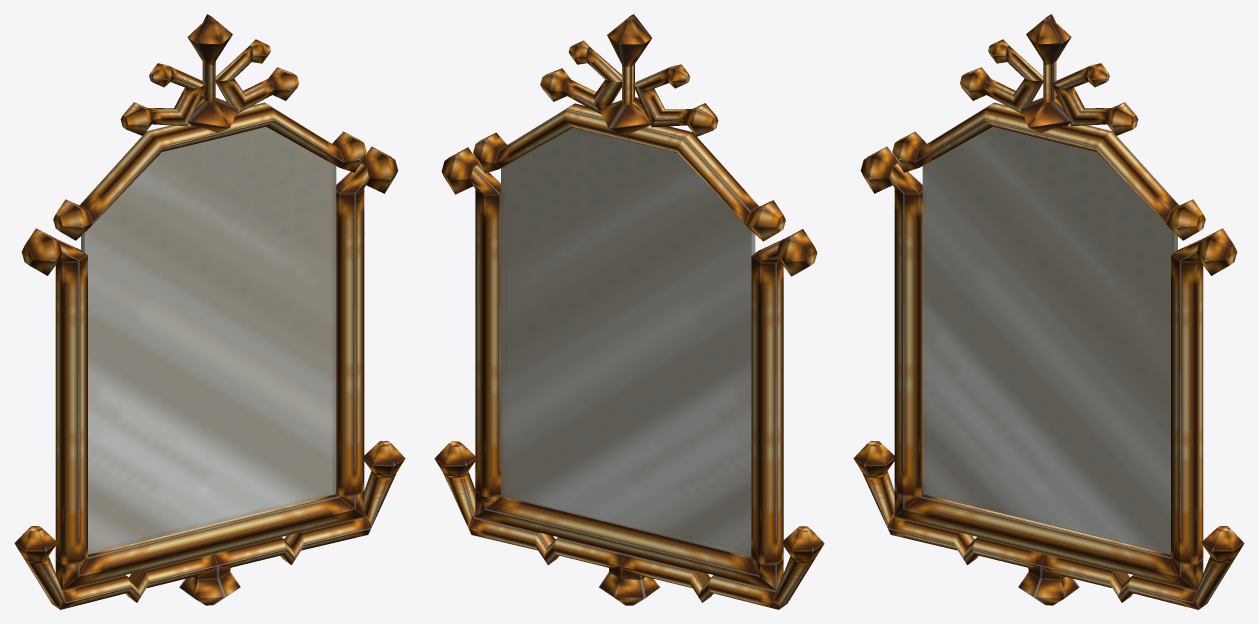
The model's file is Inside_Poly_Mirror_01.obj.
The picture shows the model from 3 angles, left to right: view 1: azimuth 30°, elevation 25°; view 2: azimuth 150°, elevation 25°; view 3: azimuth 330°, elevation 25°; orthographic projection.
Parts seen in each view (by area): view 1: Cube.001, Cylinder, Cylinder.001; view 2: Cube.001, Cylinder, Cylinder.001; view 3: Cube.001, Cylinder, Cylinder.001.
Part boxes in pixels (x1,y1,x2,y2): Cube.001: [81, 126, 336, 554]; Cylinder: [14, 39, 405, 609]; Cylinder.001: [187, 14, 237, 132]; Cube.001: [501, 128, 755, 557]; Cylinder: [434, 40, 824, 609]; Cylinder.001: [599, 14, 651, 135]; Cube.001: [922, 126, 1177, 554]; Cylinder: [853, 39, 1244, 609]; Cylinder.001: [1021, 14, 1071, 132].
Bounding box in the file's own units: 0.605 × 0.8924 × 0.1128.
2 materials, 2 textured.
